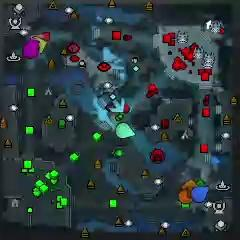p1: (192, 186, 210, 203)
p2: (115, 122, 136, 139)
p3: (22, 40, 41, 59)
p5: (179, 189, 193, 204)
x1: (30, 34, 46, 39)
x2: (34, 37, 47, 54)
x3: (110, 95, 126, 113)
x4: (193, 178, 208, 185)
x5: (181, 178, 198, 197)
